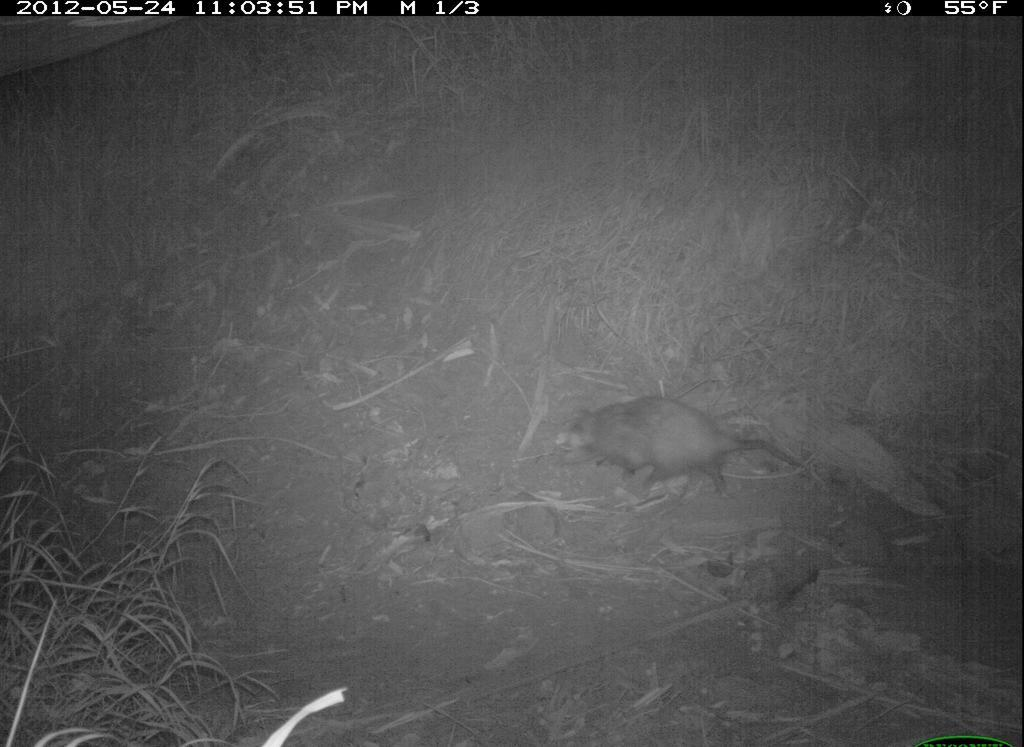opossum: (557, 393, 808, 511)
